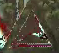Speed Breaker ahead: (0, 5, 55, 49)
